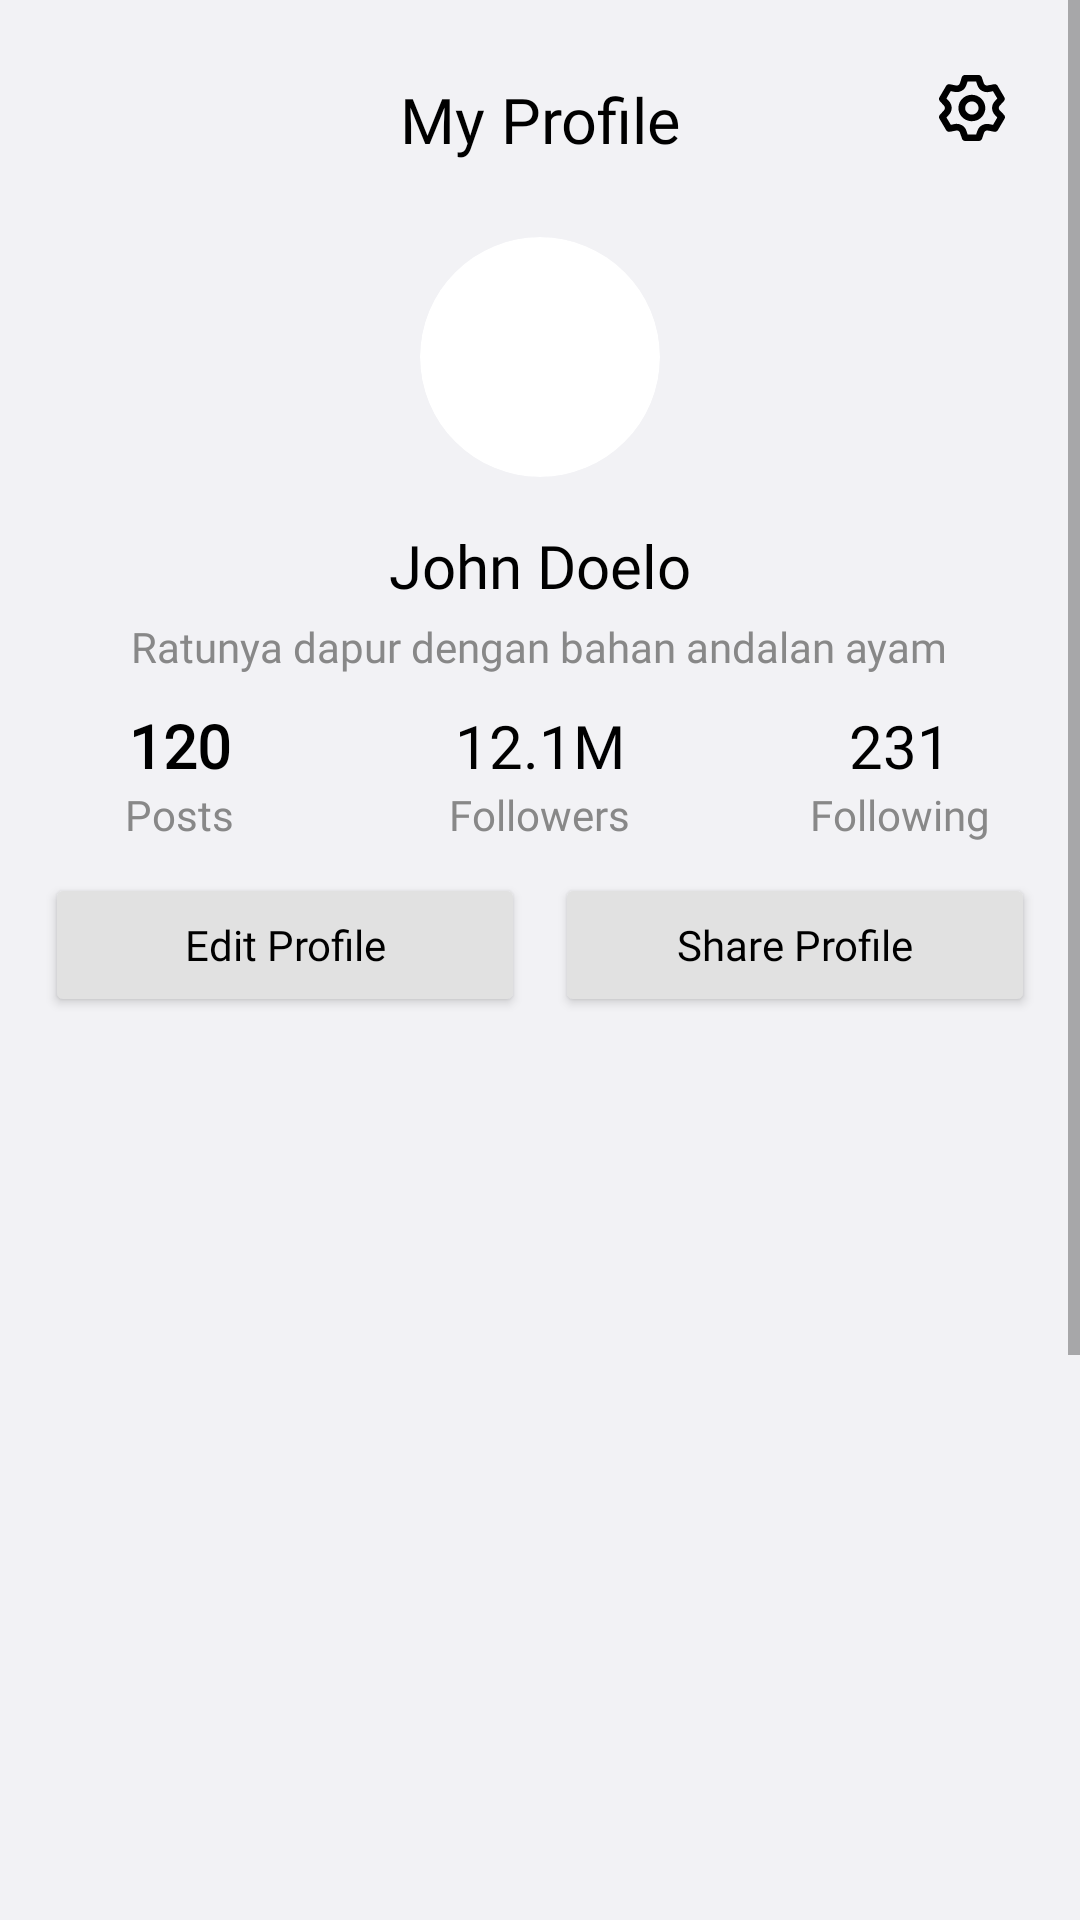

Named icons in this screenshot (1080px×1920px) and their bounding boxes, [x1, y1, x2, y2]:
settingicon: [939, 75, 1005, 141]
